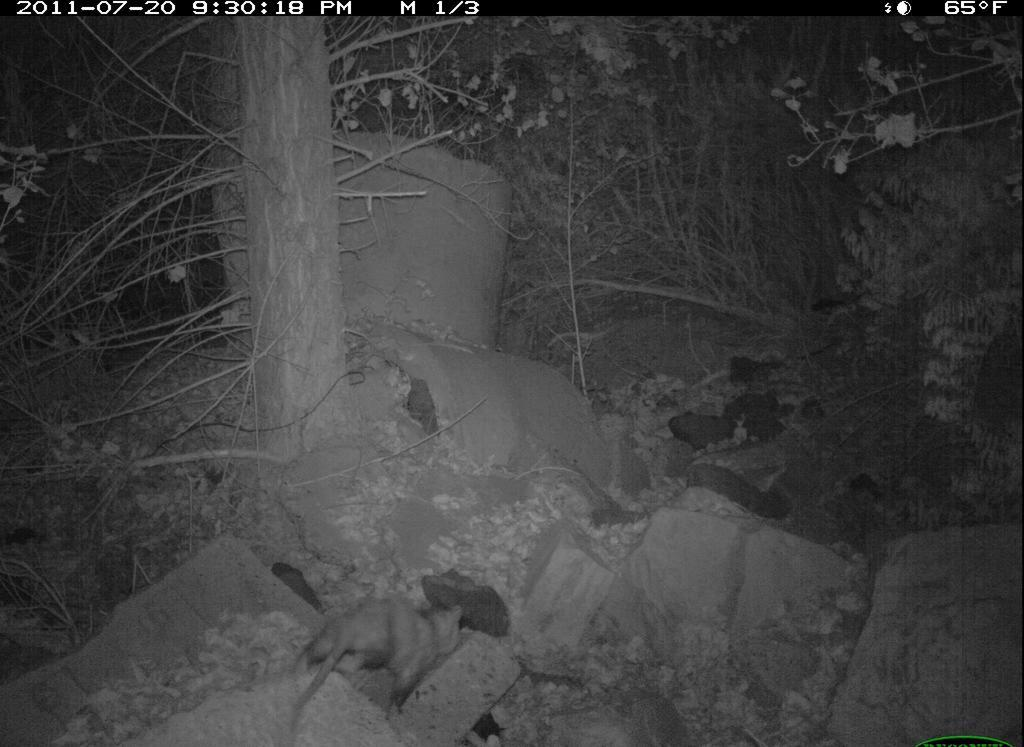opossum: (286, 593, 483, 733)
